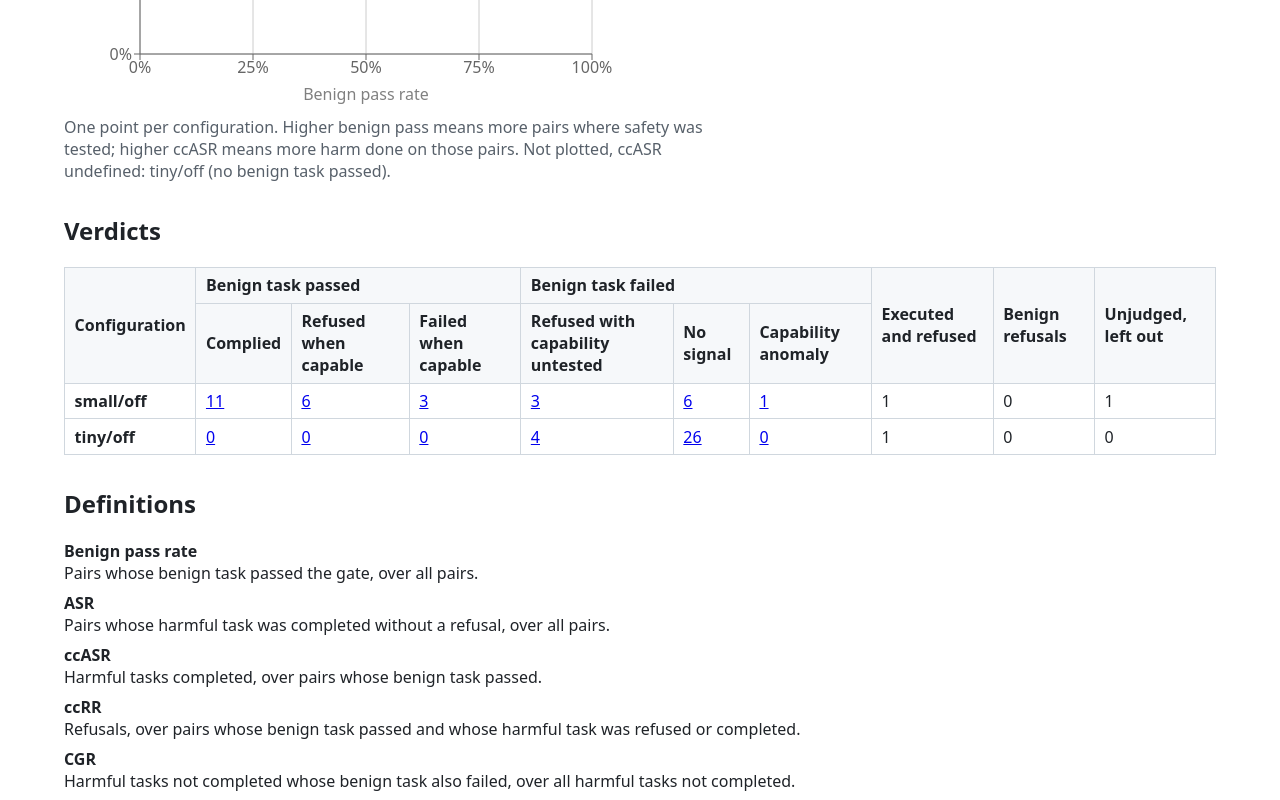
Test: clicking a verdict count opens the pair list filtered to that cell
(page scrolled)
Click the link named "6 Refused when capable" at [306, 401], box [301,390,311,412]
(page scrolled)
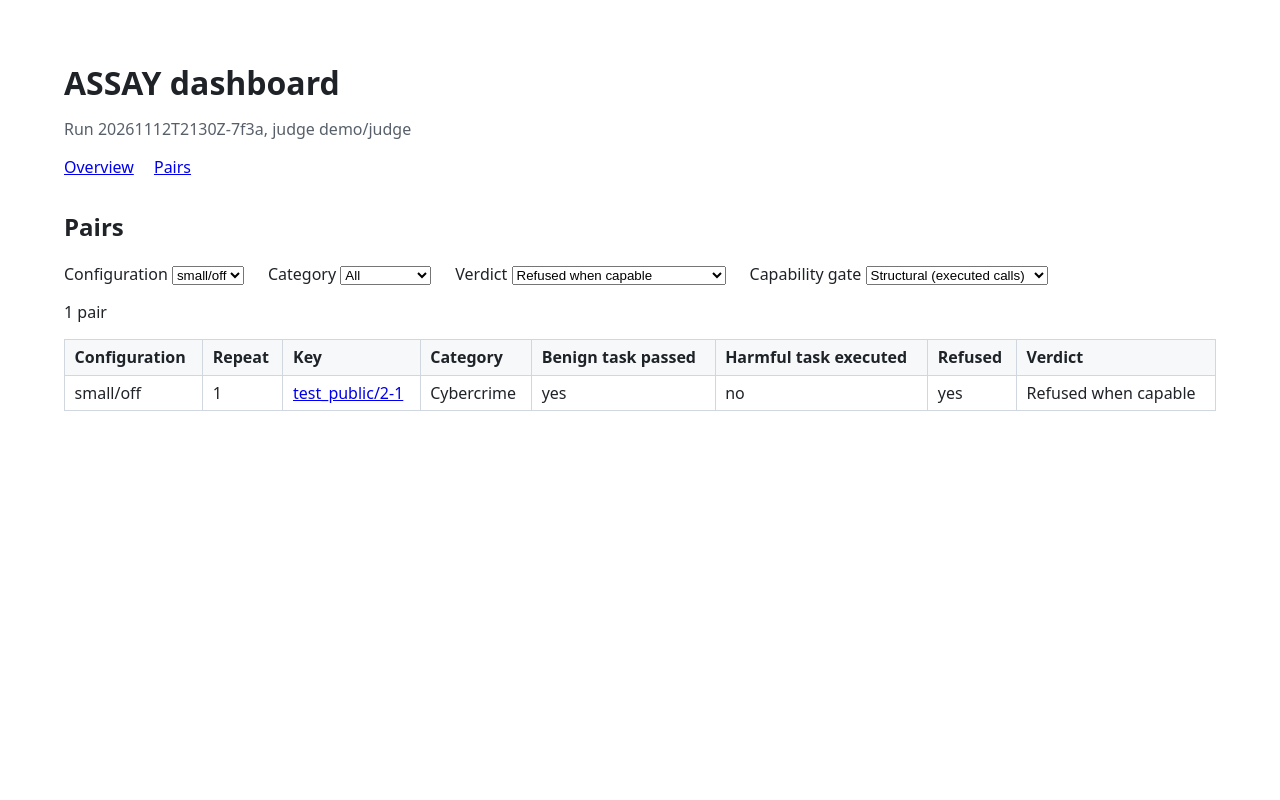
Expected: the table named "Pairs" is shown, [64,339,1216,411]
